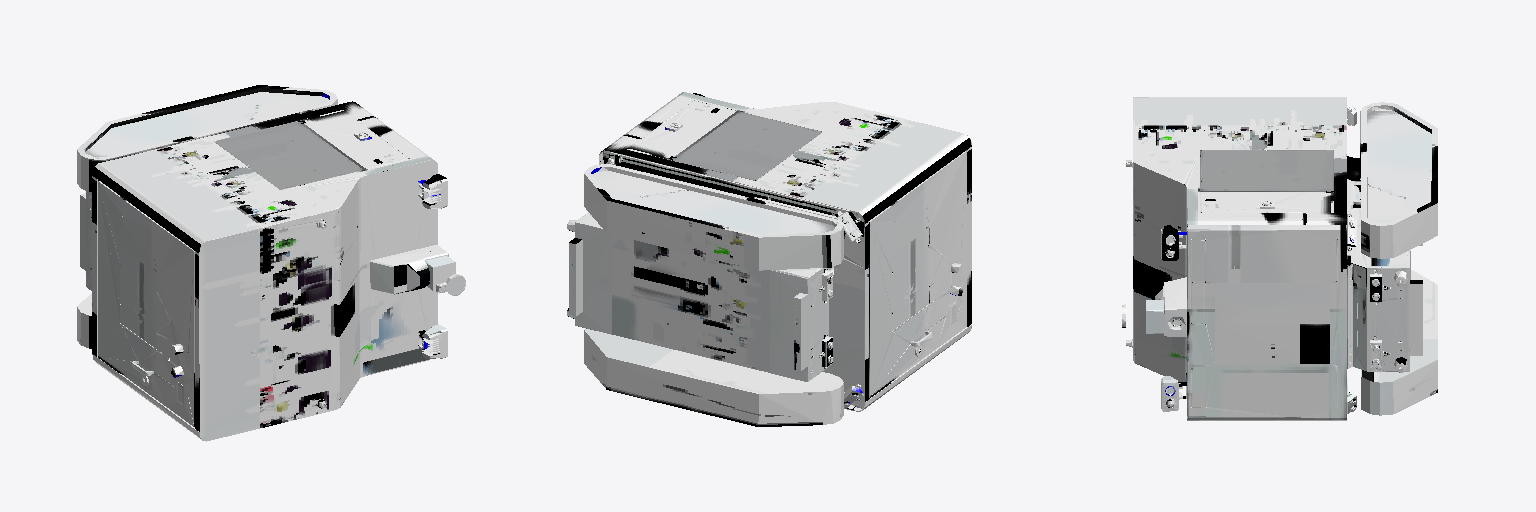
3 views of the same model, side by side, from view 1: azimuth 30°, elevation 25°; view 2: azimuth 150°, elevation 25°; view 3: azimuth 270°, elevation 25° (orthographic).
Parts seen in each view (by area): view 1: robot; view 2: robot; view 3: robot.
Boxes of the visible parts, box(x1,y1,x2,y2) form: robot: box(77, 85, 465, 441); robot: box(567, 92, 971, 426); robot: box(1122, 97, 1437, 420).
Bounding box in the file's own units: 0.701 × 0.4935 × 0.6962.
Materials: 1 (1 with a texture image).